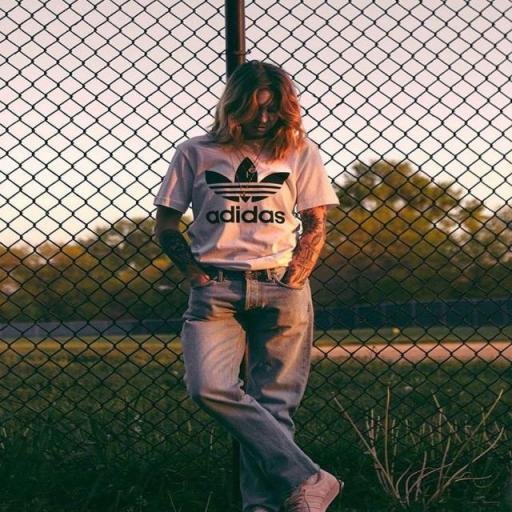Adidas: (201, 155, 291, 225)
